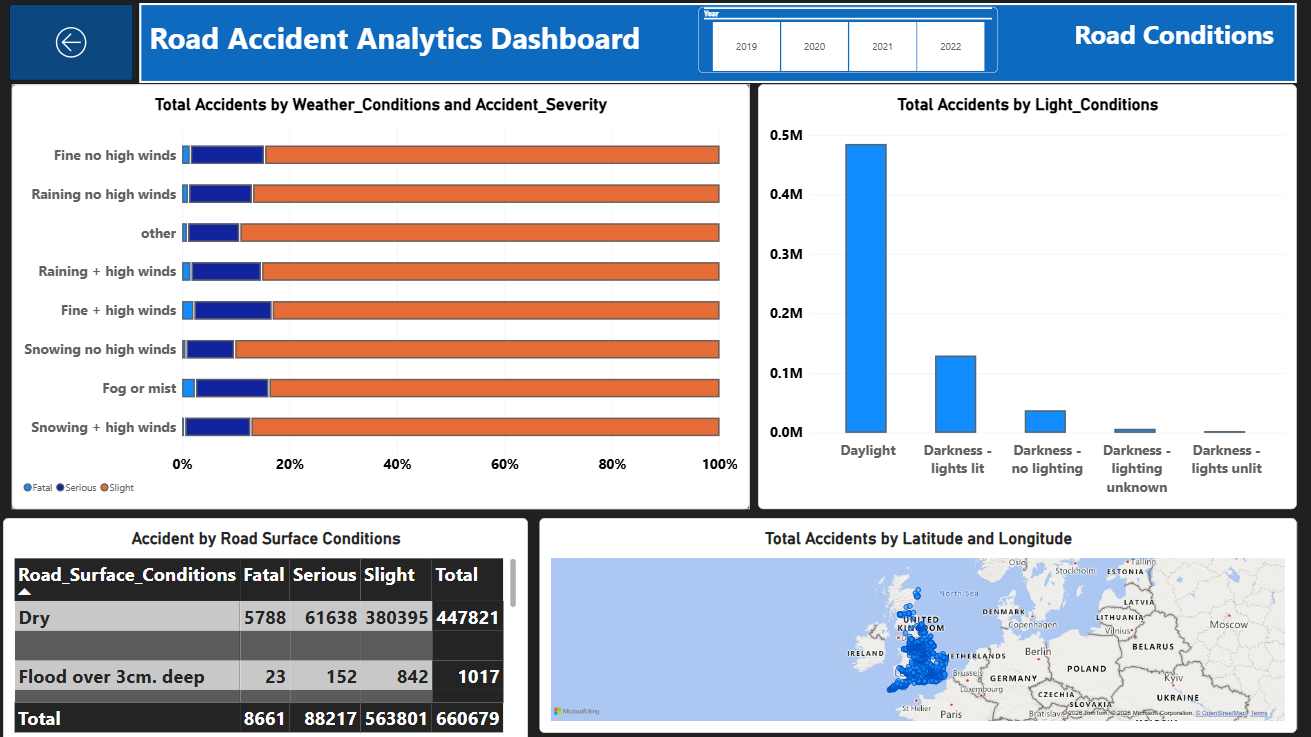

What the dashboard file says about the page in this screenshot:
{"tool":"powerbi","page":{"name":"04_Road Surface Conditions","canvas":[1920,1080],"ordinal":3},"visuals":[{"type":"pivotTable","title":"Accident by Road Surface Conditions ","fields":{"Rows":["accident data.Road_Surface_Conditions"],"Values":["accident data.Total Accidents"],"Columns":["accident data.Accident_Severity"]},"box":[14.5,752.8,760.1,327.5],"z":0},{"type":"hundredPercentStackedBarChart","fields":{"Category":["accident data.Weather_Conditions"],"Y":["accident data.Total Accidents"],"Series":["accident data.Accident_Severity"]},"box":[27.1,124.9,1067.7,615.3],"z":1000},{"type":"columnChart","fields":{"Category":["accident data.Light_Conditions"],"Y":["accident data.Total Accidents"]},"box":[1107.5,124.9,780,615.3],"z":2000},{"type":"map","fields":{"Y":["accident data.Latitude"],"X":["accident data.Longitude"],"Size":["accident data.Total Accidents"]},"box":[790.8,752.8,1096.7,311.3],"z":3000},{"type":"shape","box":[211.7,7.2,1675.7,115.8],"z":4000},{"type":"actionButton","box":[14.5,0,197.3,128.5],"z":5000},{"type":"textbox","box":[226.2,27.1,732.9,79.6],"z":6000},{"type":"textbox","box":[1565.4,27.1,322.1,52.5],"z":7000},{"type":"slicer","fields":{"Values":["accident data.Year"]},"box":[1020,12,434,96],"z":7001}]}

Visuals, with their boxes in screenshot pixels (x1, y1, x2, y2), scaled from the page's 1920x1080 canvas onto the 1311x737 screenshot:
"Accident by Road Surface Conditions " pivotTable: x1=10, y1=514, x2=529, y2=736
hundredPercentStackedBarChart - accident data.Weather_Conditions x accident data.Total Accidents: x1=19, y1=85, x2=748, y2=505
columnChart - accident data.Light_Conditions x accident data.Total Accidents: x1=756, y1=85, x2=1289, y2=505
map - accident data.Latitude x accident data.Longitude: x1=540, y1=514, x2=1289, y2=726
shape: x1=145, y1=5, x2=1289, y2=84
actionButton: x1=10, y1=0, x2=145, y2=88
textbox: x1=154, y1=18, x2=655, y2=73
textbox: x1=1069, y1=18, x2=1289, y2=54
slicer - accident data.Year: x1=696, y1=8, x2=993, y2=74
